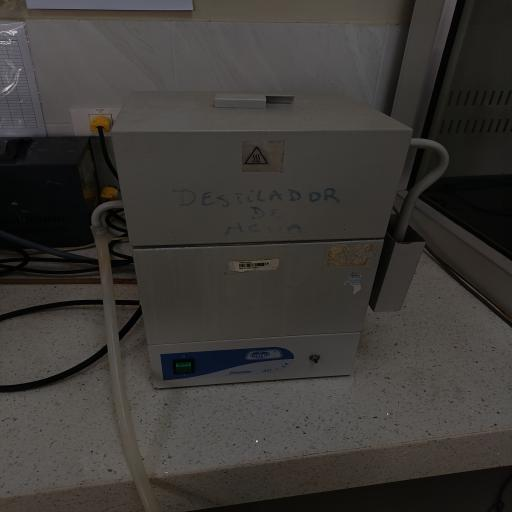Destilador_agua: (92, 77, 421, 397)
